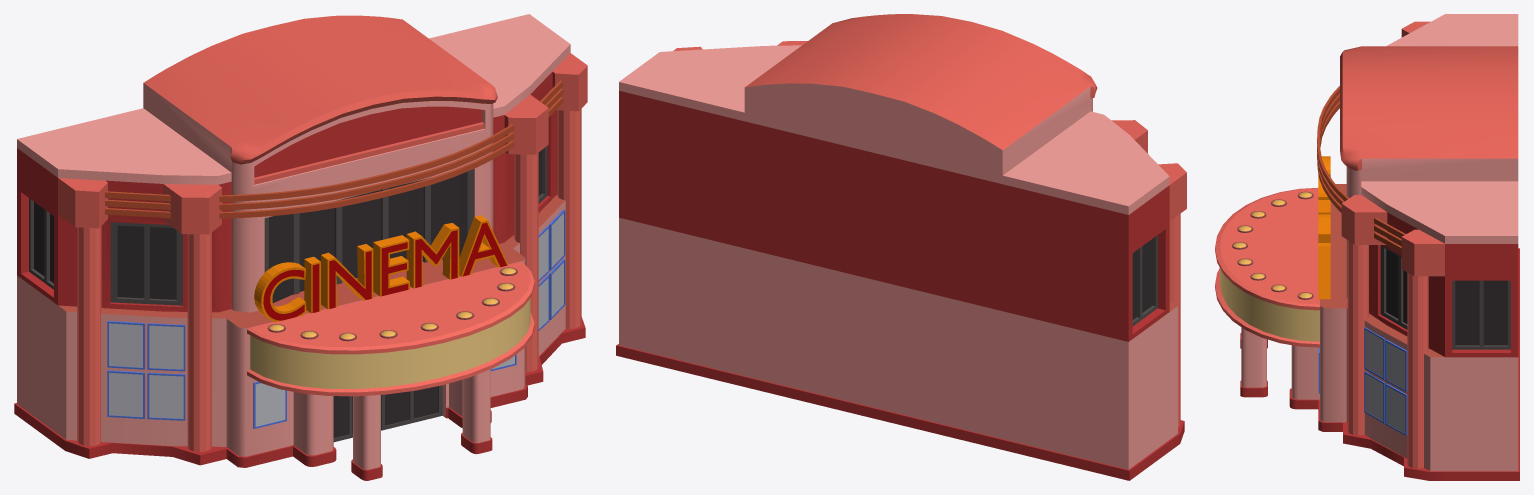
3 renders of one model, left to right at view 1: azimuth 30°, elevation 25°; view 2: azimuth 150°, elevation 25°; view 3: azimuth 270°, elevation 25°, orthographic. The views are drawn at different scales.
Visible parts, largest first — view 1: Cinema; view 2: Cinema; view 3: Cinema.
Boxes of the visible parts, x1=… form: Cinema: x1=14, y1=14, x2=587, y2=480; Cinema: x1=616, y1=14, x2=1186, y2=480; Cinema: x1=1215, y1=14, x2=1519, y2=480.
Size of what is drawn, in the model's own units: 9.23 by 5.57 by 5.32.
Materials: 1 (1 with a texture image).
